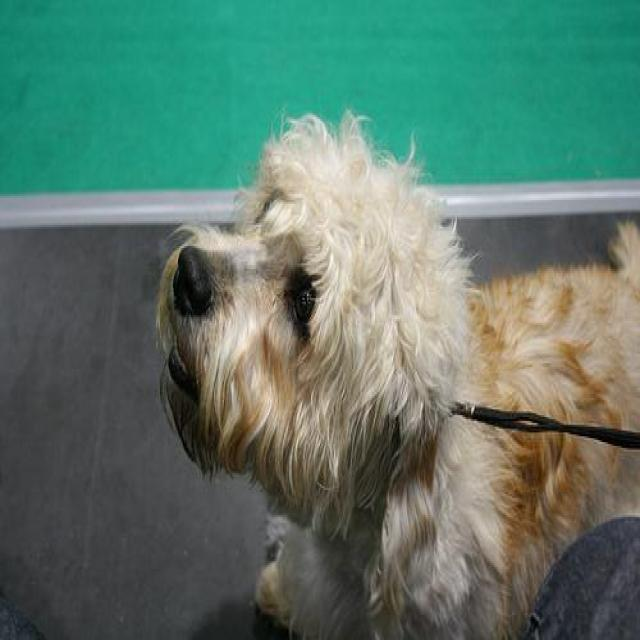dandie_dinmont: (152, 108, 638, 636)
